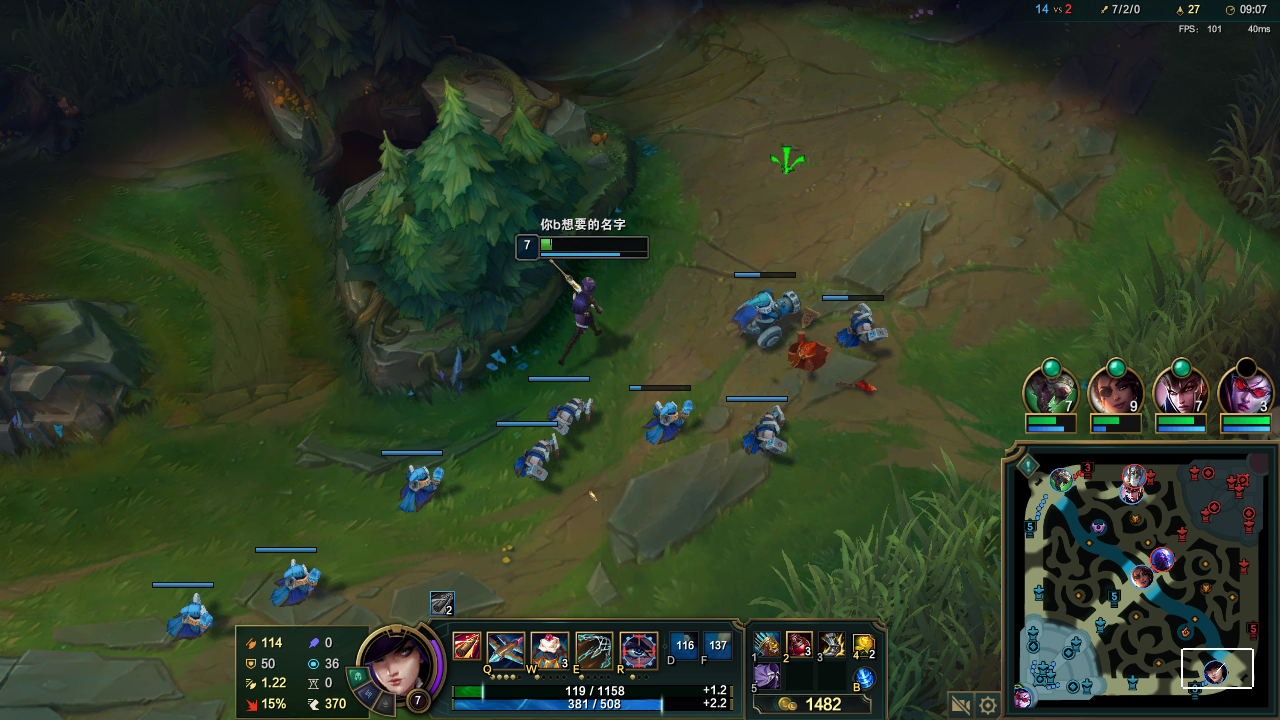WFXB: (735, 287, 801, 355), (265, 566, 329, 606), (833, 301, 884, 348), (404, 455, 445, 512), (640, 402, 691, 442), (168, 595, 215, 635), (741, 413, 785, 454), (514, 438, 557, 471), (552, 404, 595, 430)
